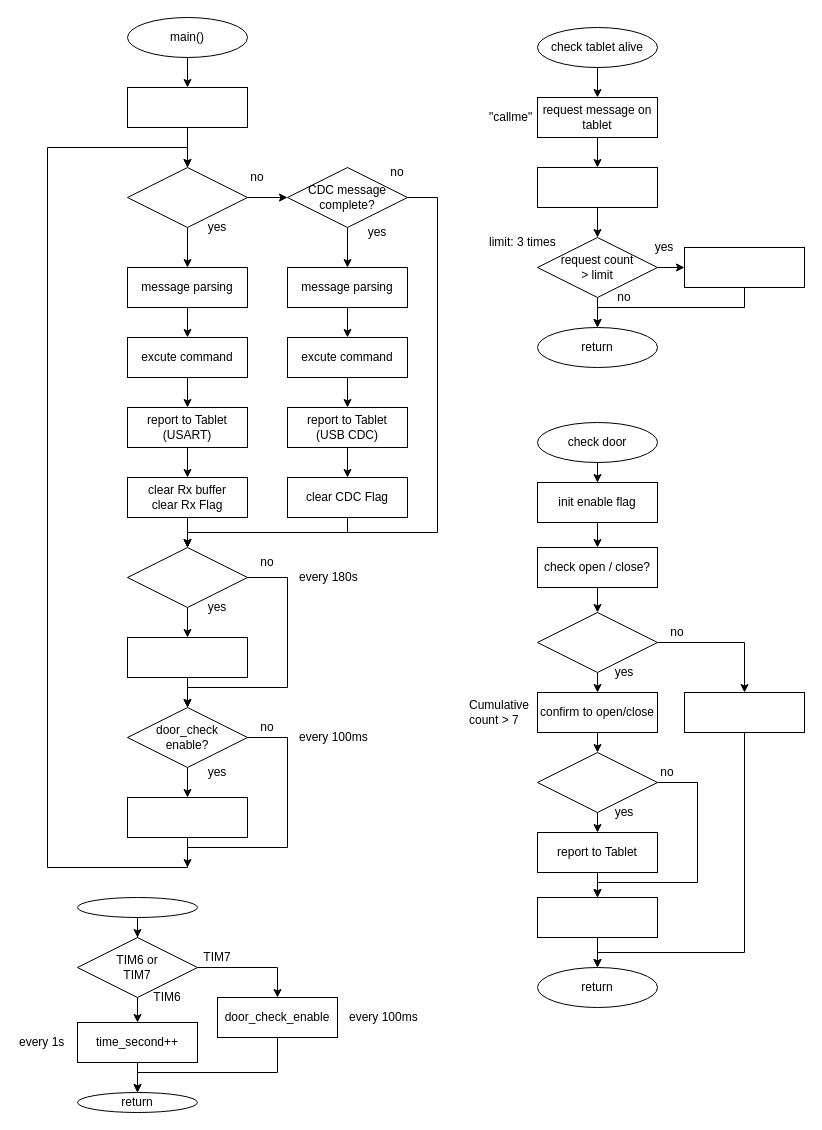
Image size: 822x1130. Some labels were removed from this diagram. Here are the shapes that lost their labels. From the top down, the box of each, then its label:
(126, 86, 248, 128): peripheral config Interrupt Init
(126, 166, 248, 228): Rx message complete?
(536, 166, 658, 208): init priod trying request++
(684, 246, 804, 288): Cut 12V-out init request count
(126, 546, 248, 608): alive priod?
(126, 636, 248, 678): check tablet alive()
(536, 612, 658, 672): door check > 10
(684, 692, 804, 732): door check++
(536, 752, 658, 812): door change?
(126, 796, 248, 838): check door open()
(76, 896, 198, 918): Timer
(536, 896, 658, 938): init door_check init open&close
